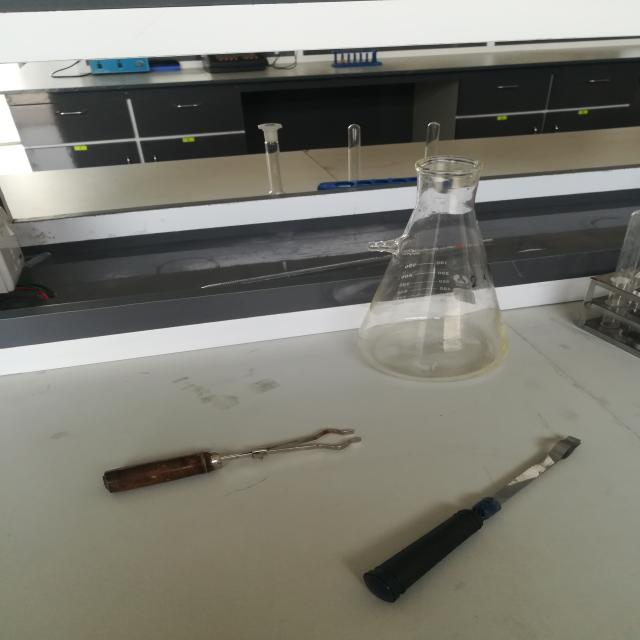Conical_Flask: (340, 126, 538, 395)
TestTube_Holder: (308, 410, 640, 613), (65, 396, 422, 536)
